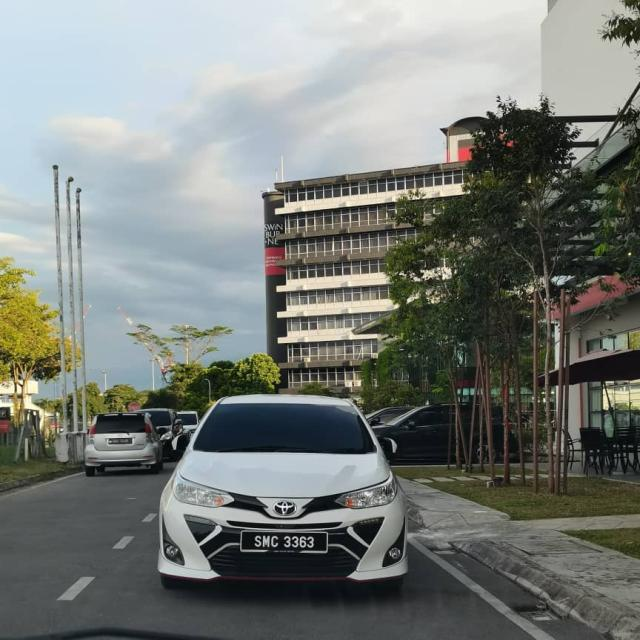ToyotaVios: (156, 392, 409, 589)
